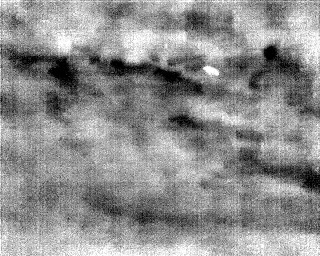BIRD: (202, 62, 223, 78)
